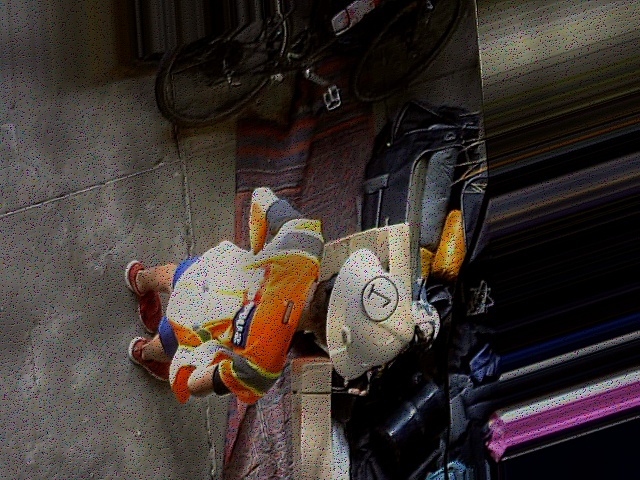one: (361, 271, 399, 325)
